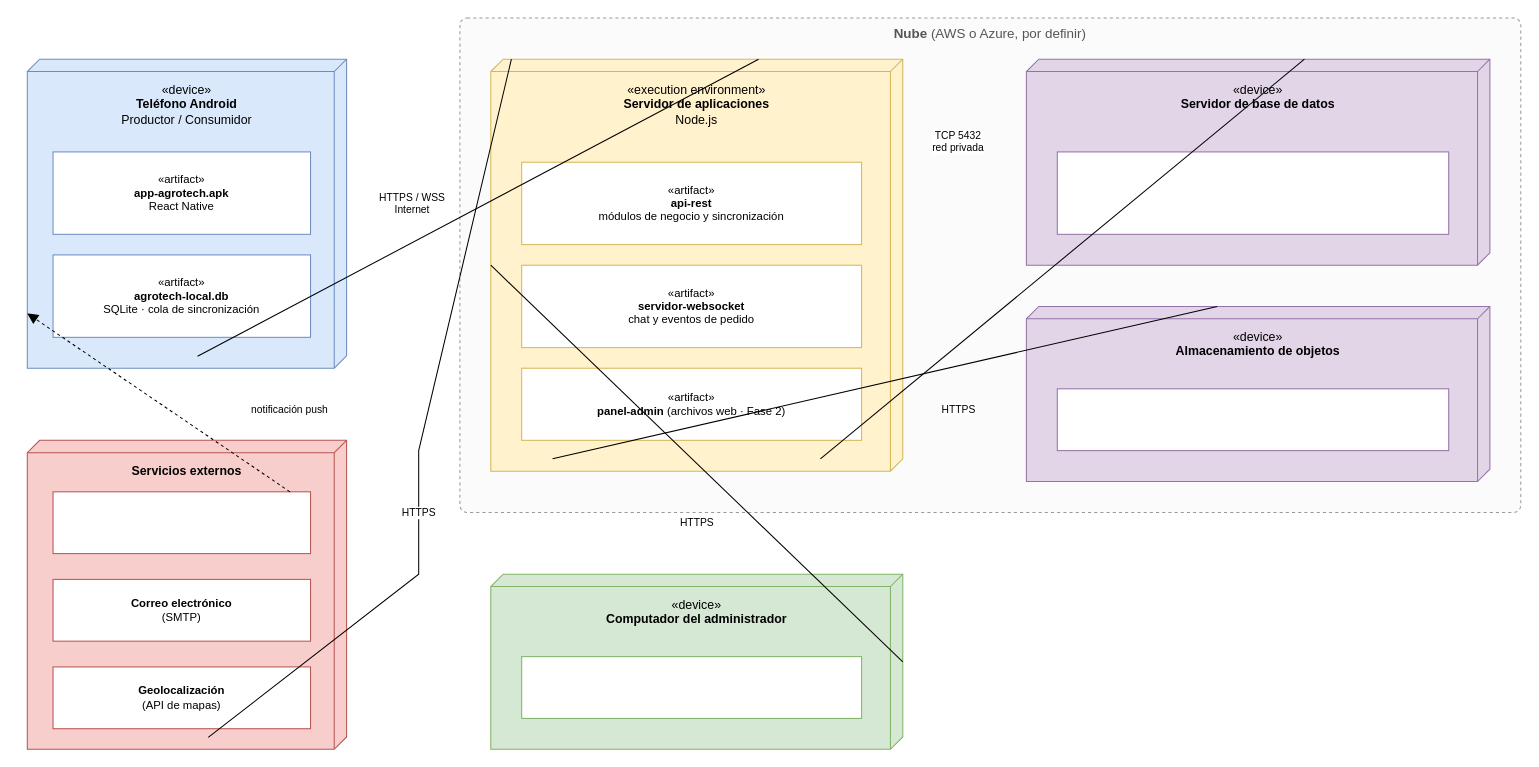
This 1539x767 diagram has some shape labels left out. Here are the shapes that lost their labels. From the top down, the centre of each, then its label:
the point at 1252,192: «artifact» agrotech_db PostgreSQL + PostGIS
the point at 1252,419: «artifact» imágenes de productos
the point at 181,522: Notificaciones push (FCM)
the point at 691,687: «execution environment» Navegador web
